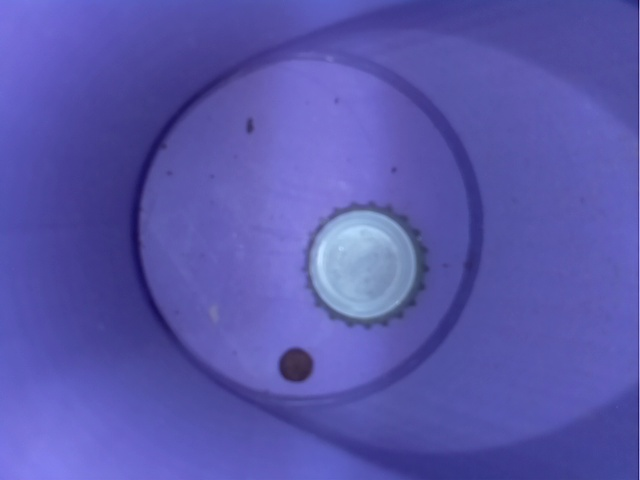capsule: (297, 190, 434, 327)
croquette: (267, 343, 320, 389)
